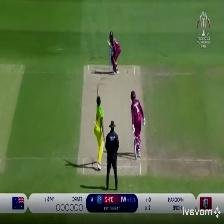batsman: (101, 29, 123, 78)
